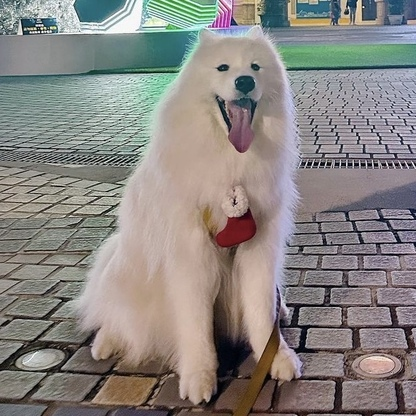samoyed: (67, 20, 306, 408)
